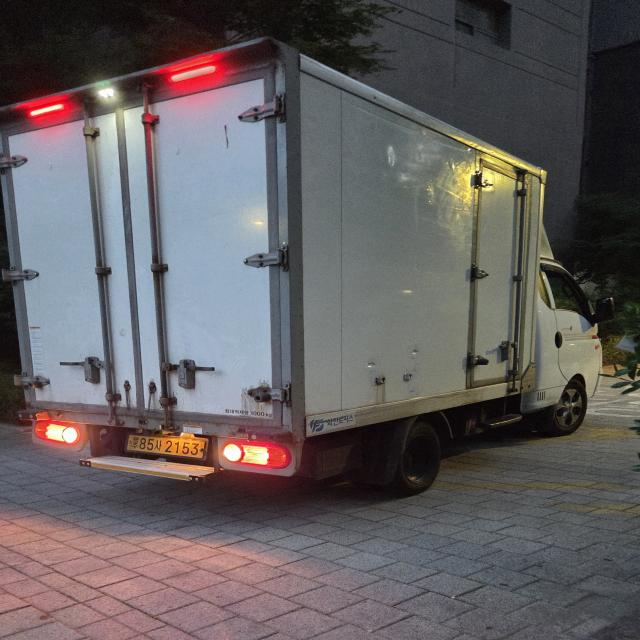car: (7, 31, 626, 526)
